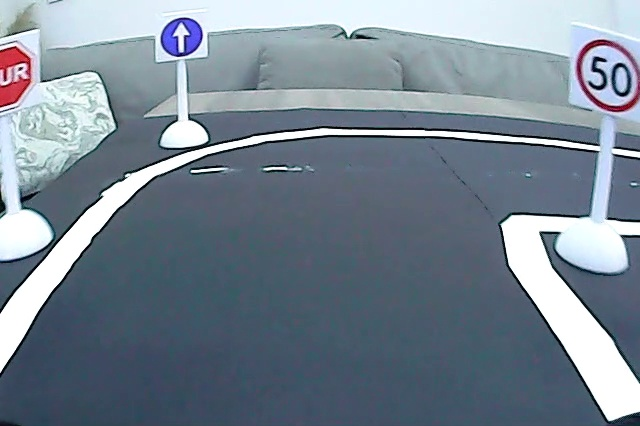speed limit 50: (574, 34, 640, 114)
